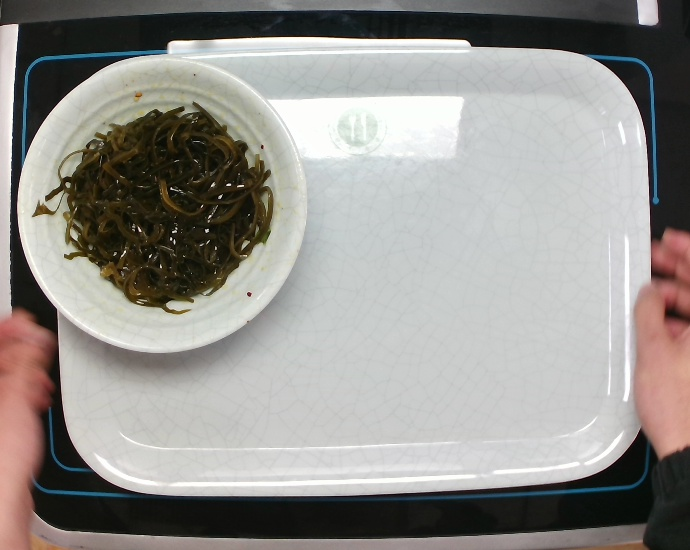JYsf-Xiao_Tang_Wan: (10, 45, 314, 358)
